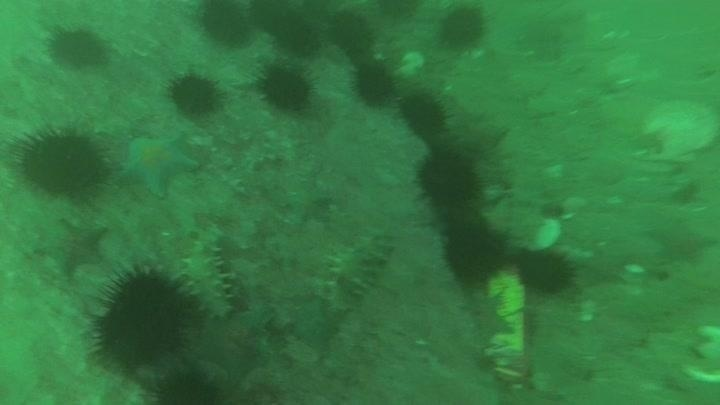echinus: (90, 267, 197, 373), (15, 125, 111, 201), (440, 220, 508, 287), (415, 148, 483, 211), (258, 4, 322, 57), (256, 62, 317, 114), (45, 24, 110, 71), (515, 248, 576, 296), (148, 366, 223, 404), (166, 69, 224, 118), (196, 1, 254, 49), (397, 89, 450, 141), (436, 4, 489, 53), (327, 9, 376, 56), (350, 60, 397, 108), (373, 1, 423, 23)
holothurian: (323, 228, 394, 313), (181, 221, 236, 322)
scallop: (640, 97, 718, 162), (526, 216, 564, 252), (395, 49, 427, 79)
starfish: (191, 303, 277, 379), (119, 133, 199, 198), (32, 215, 109, 279), (645, 214, 716, 265), (446, 108, 508, 160), (280, 181, 335, 226)
